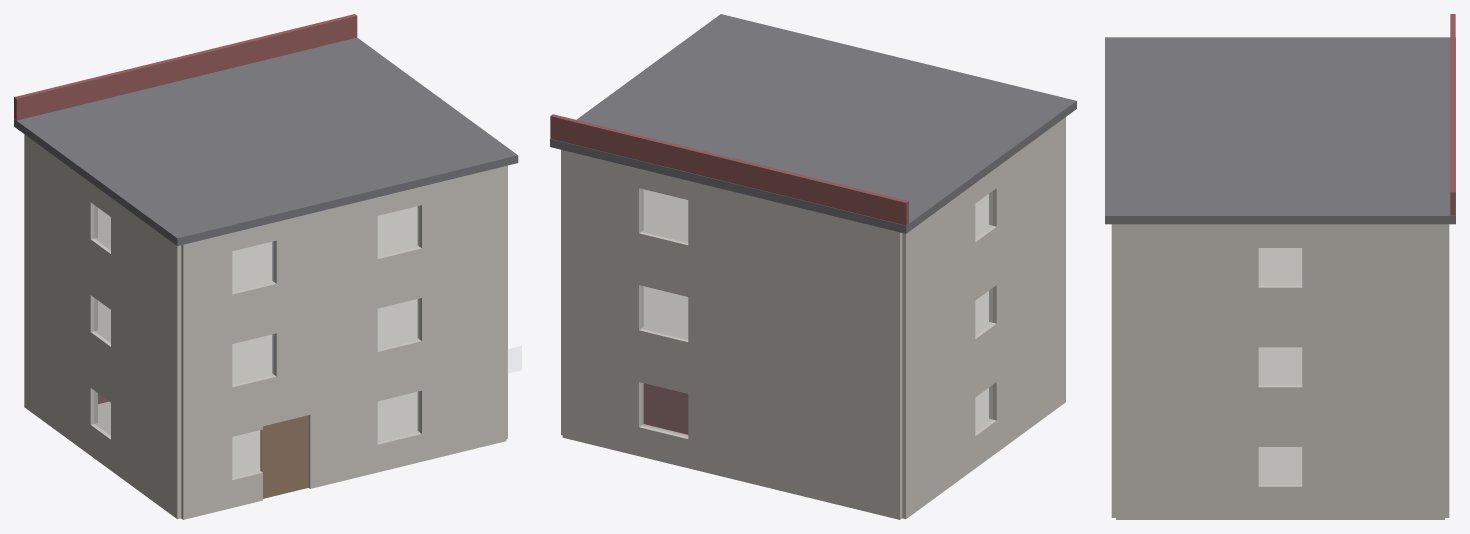
File: shell_11.glb
3 views of the same model, side by side, from view 1: azimuth 30°, elevation 25°; view 2: azimuth 150°, elevation 25°; view 3: azimuth 270°, elevation 25° (orthographic). The views are drawn at different scales.
Parts seen in each view (by area): view 1: Wall_Front, Roof, Wall_Left, RoofRail, Floor_2, Floor_1, Door_Front, Floor_0, Glass_Front_6, Glass_Front_2, Glass_Front_3, Glass_Front_4 (+2 smaller); view 2: Wall_Back, Roof, Wall_Left, RoofRail, Floor_1, Floor_2, Glass_Back_1, Glass_Back_2, Glass_Back_3, Interior_Wall, Glass_Left_2, Glass_Left_1 (+1 smaller); view 3: Wall_Right, Roof, Floor_1, Glass_Right_1, Glass_Right_2, Glass_Right_3, Floor_0, Floor_2, Wall_Front, Wall_Back, RoofRail.
Part boxes in pixels (bbox=[...]): Wall_Front: bbox=[181, 166, 506, 519]; Roof: bbox=[14, 37, 518, 245]; Wall_Left: bbox=[24, 134, 181, 519]; RoofRail: bbox=[14, 14, 357, 120]; Floor_2: bbox=[98, 206, 417, 290]; Floor_1: bbox=[98, 299, 417, 382]; Door_Front: bbox=[260, 415, 308, 498]; Floor_0: bbox=[98, 391, 417, 475]; Glass_Front_6: bbox=[378, 206, 419, 256]; Glass_Front_2: bbox=[378, 392, 419, 441]; Glass_Front_3: bbox=[232, 334, 273, 384]; Glass_Front_4: bbox=[378, 299, 419, 349]; Wall_Back: bbox=[562, 150, 902, 519]; Roof: bbox=[550, 14, 1076, 233]; Wall_Left: bbox=[902, 117, 1065, 518]; RoofRail: bbox=[550, 114, 908, 225]; Floor_1: bbox=[643, 286, 988, 337]; Floor_2: bbox=[643, 189, 988, 240]; Glass_Back_1: bbox=[641, 383, 687, 436]; Glass_Back_2: bbox=[641, 286, 687, 339]; Glass_Back_3: bbox=[641, 189, 687, 242]; Interior_Wall: bbox=[643, 383, 688, 434]; Glass_Left_2: bbox=[975, 288, 992, 334]; Glass_Left_1: bbox=[975, 385, 992, 431]; Wall_Right: bbox=[1116, 224, 1444, 519]; Roof: bbox=[1105, 37, 1455, 224]; Floor_1: bbox=[1258, 347, 1302, 383]; Glass_Right_1: bbox=[1259, 447, 1301, 484]; Glass_Right_2: bbox=[1259, 347, 1301, 384]; Glass_Right_3: bbox=[1259, 248, 1301, 285]; Floor_0: bbox=[1258, 447, 1302, 482]; Floor_2: bbox=[1258, 248, 1302, 283]; Wall_Front: bbox=[1111, 224, 1115, 517]; Wall_Back: bbox=[1445, 224, 1449, 517]; RoofRail: bbox=[1450, 14, 1455, 215].
Bounding box in the file's own units: 11.83 × 9.95 × 9.58.
